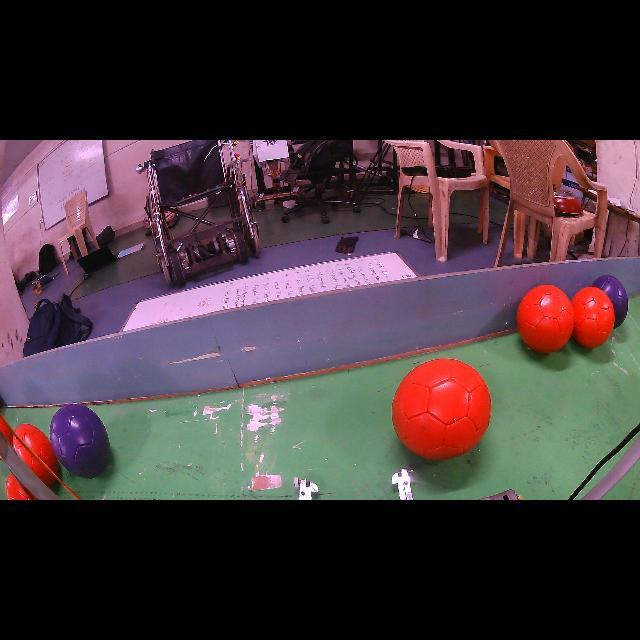P: (50, 404, 110, 479), (592, 275, 629, 328)
R: (392, 359, 491, 459), (518, 285, 575, 354), (12, 424, 59, 486), (571, 286, 615, 348), (5, 475, 31, 499)
